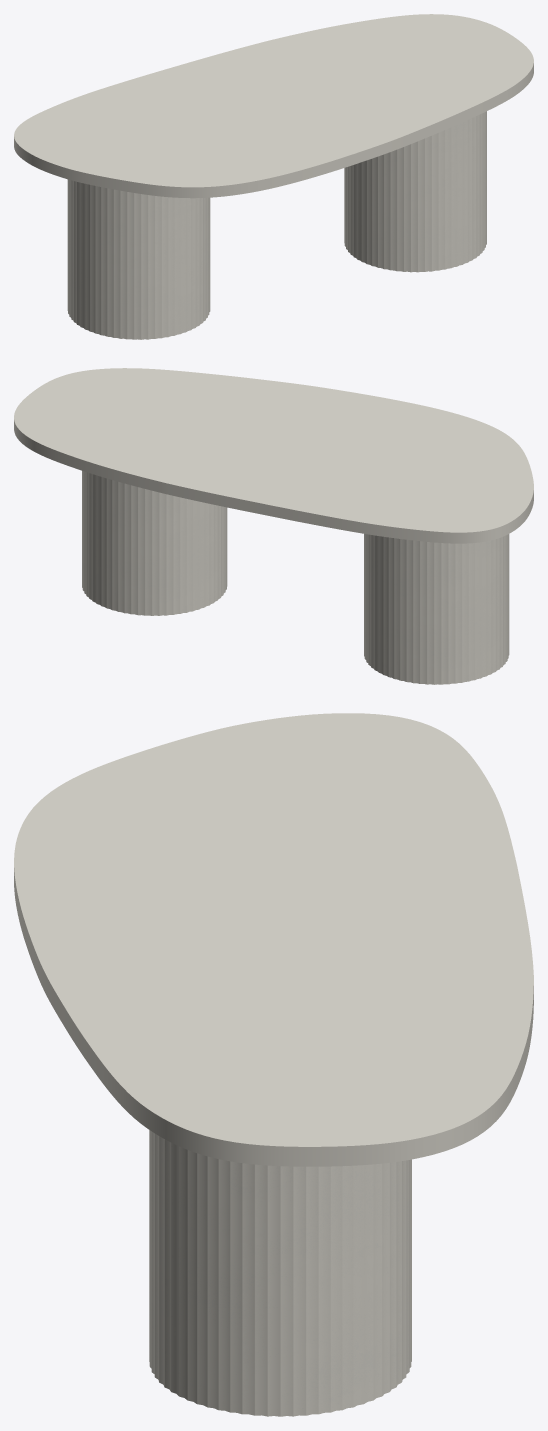
File: pale_leaf2_standard_ripplesecond.glb
3 views of the same model, one above another, from view 1: azimuth 30°, elevation 25°; view 2: azimuth 150°, elevation 25°; view 3: azimuth 270°, elevation 25° (orthographic). The views are drawn at different scales.
Parts seen in each view (by area): view 1: standard_leaf2, ripplesecond; view 2: standard_leaf2, ripplesecond; view 3: standard_leaf2, ripplesecond.
Boxes of the visible parts, bbox=[...] form: standard_leaf2: bbox=[14, 14, 533, 198]; ripplesecond: bbox=[67, 111, 486, 339]; standard_leaf2: bbox=[14, 368, 533, 543]; ripplesecond: bbox=[82, 471, 509, 684]; standard_leaf2: bbox=[14, 713, 533, 1166]; ripplesecond: bbox=[149, 1130, 411, 1416].
Size of the model in its own units: 7.5 by 2.52 by 3.8.
Materials: 1 (1 with a texture image).
